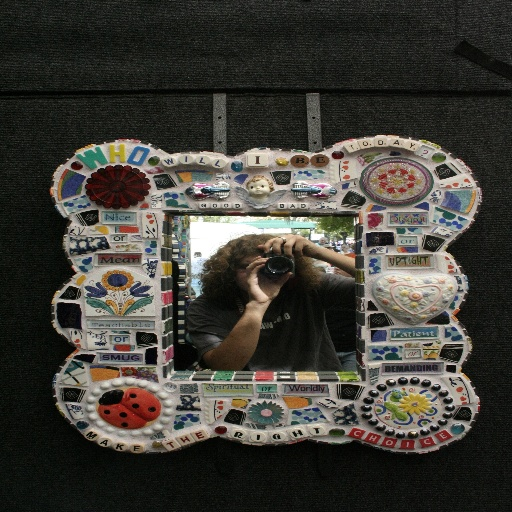hand: (256, 235, 343, 266)
